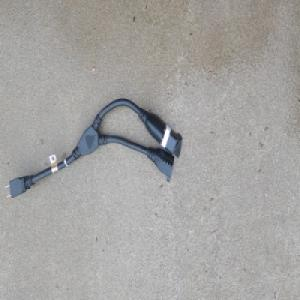Wire: (2, 96, 182, 201)
